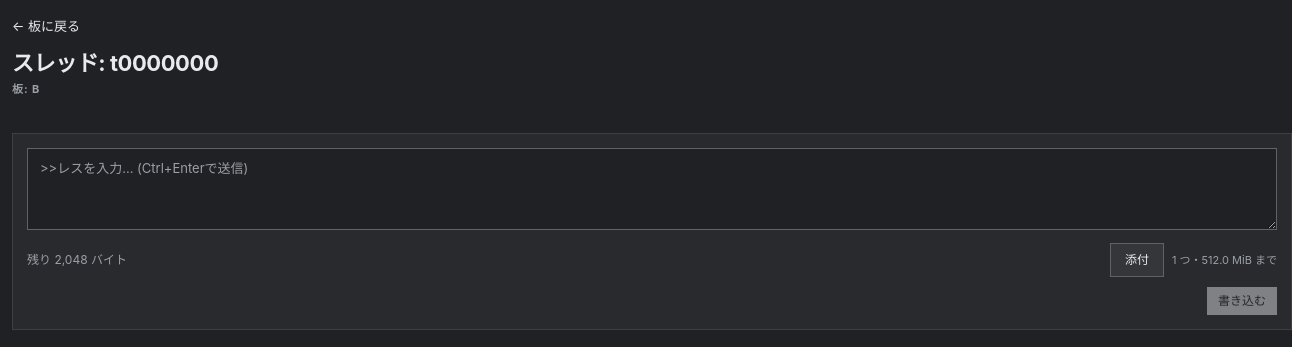
Test: 残りバイト数の表示 › ASCII の入力で残りを表示する
Type "abc" into the text box with placeholder ">>レスを入力... (Ctrl+Enterで送信)" at (652, 189), box [27,148,1277,230]
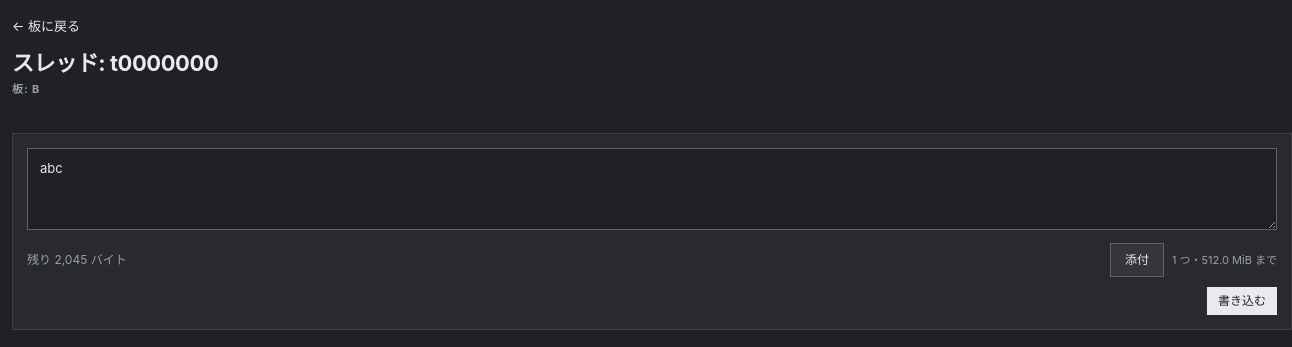
Check: the text "残り 2,045 バイト" is shown, box [27,252,127,267]
